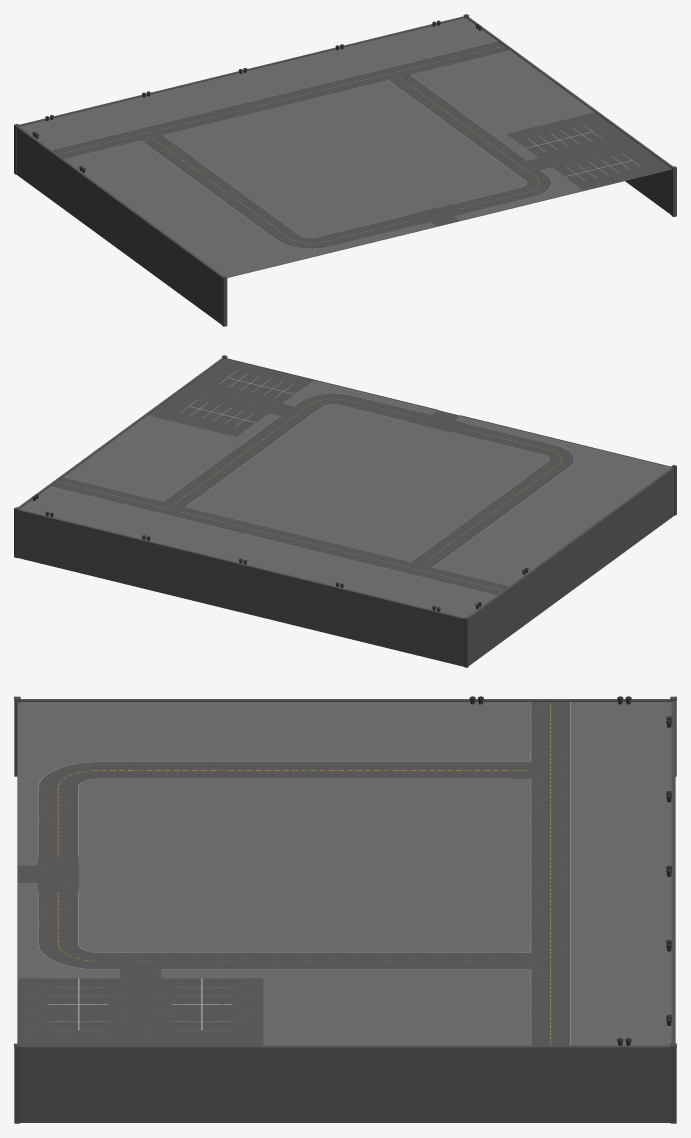
File: SM_Floor_Port_01.fbx
The picture shows the model from 3 angles, top to bottom: view 1: azimuth 30°, elevation 25°; view 2: azimuth 150°, elevation 25°; view 3: azimuth 270°, elevation 25°; orthographic projection. The views are drawn at different scales.
Visible parts, largest first — view 1: SM_Floor_Port_01; view 2: SM_Floor_Port_01; view 3: SM_Floor_Port_01.
Part boxes in pixels (box(x1,y1,x2,y2)): SM_Floor_Port_01: box(14, 14, 676, 326); SM_Floor_Port_01: box(14, 355, 676, 667); SM_Floor_Port_01: box(14, 696, 676, 1123).
Size of the model in its own units: 101 by 10.83 by 80.8.
